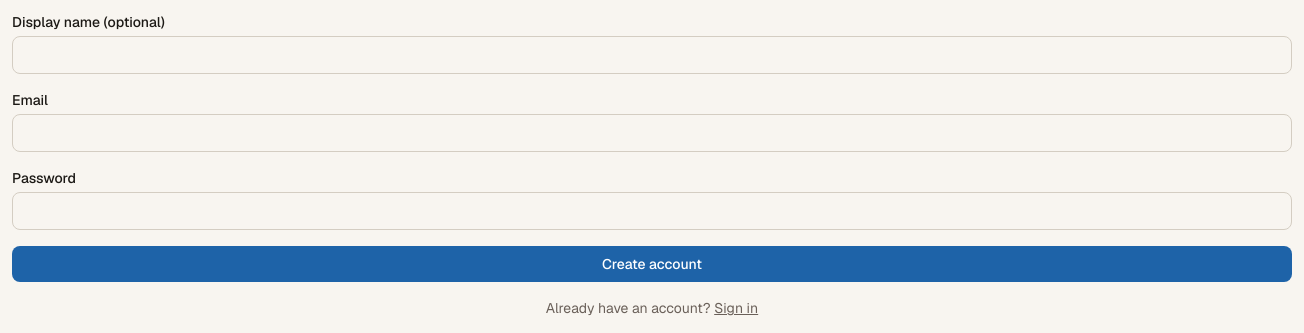
RegisterForm — awaiting verification flow › shows 'check your email' screen when verification is required
Expected: the button "Create account" is shown, [12,246,1292,282]
Type "alice@example.com" into the field labelled "Email".
click(652, 133); type("alice@example.com")  # box [12,114,1292,152]
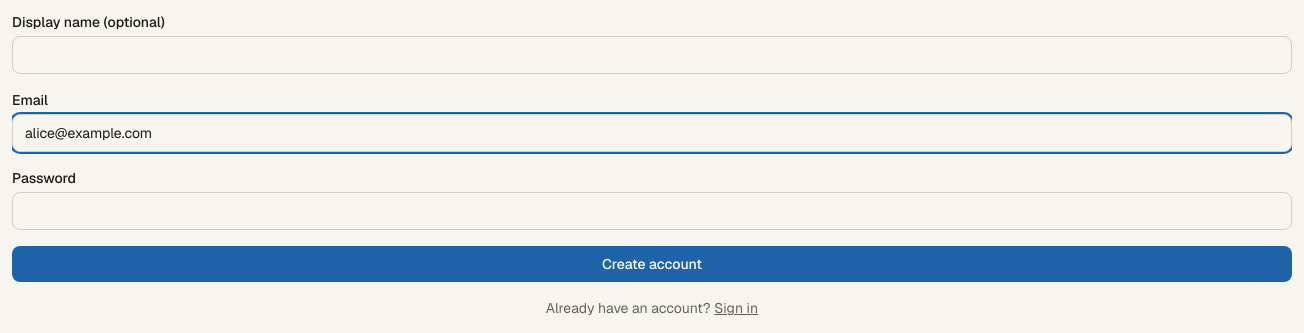
Type "hunter2!!" into the password field labelled "Password".
click(652, 211); type("hunter2!!")  # box [12,192,1292,230]
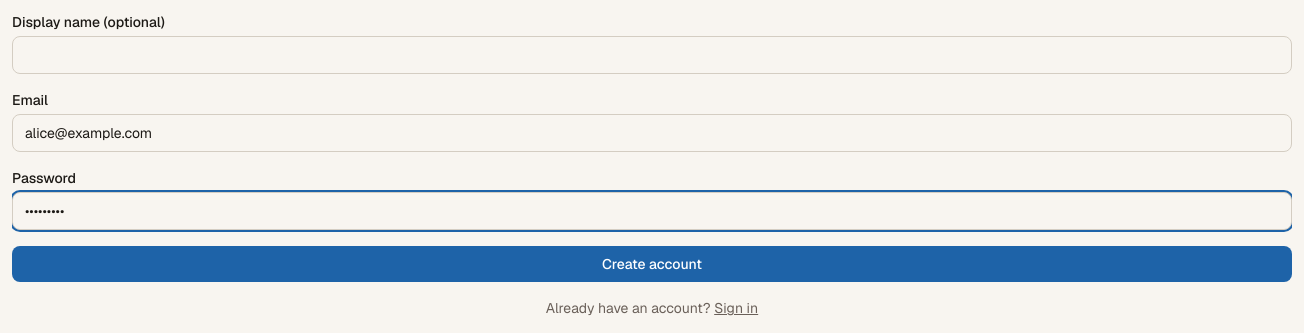
Click the button "Create account".
click(652, 264)  # box [12,246,1292,282]
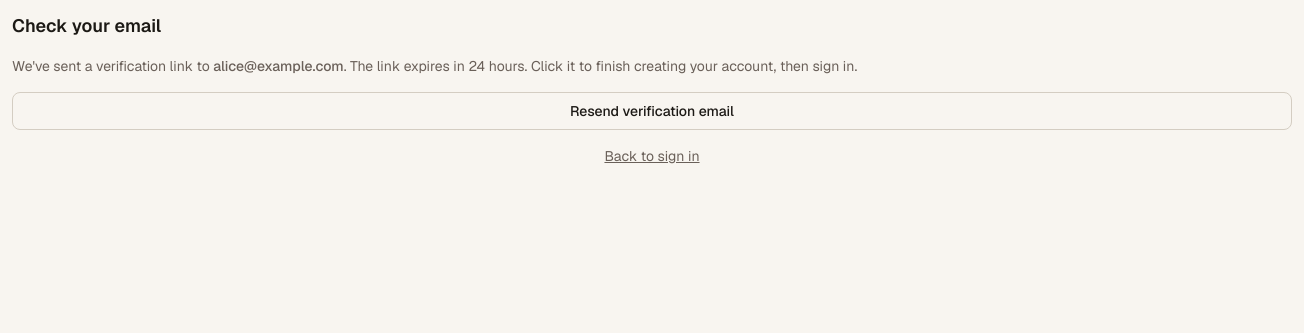
Expected: the heading "Check your email" is shown, [12,14,161,37]
Expected: the text "alice@example.com" is shown, [213,57,344,75]
